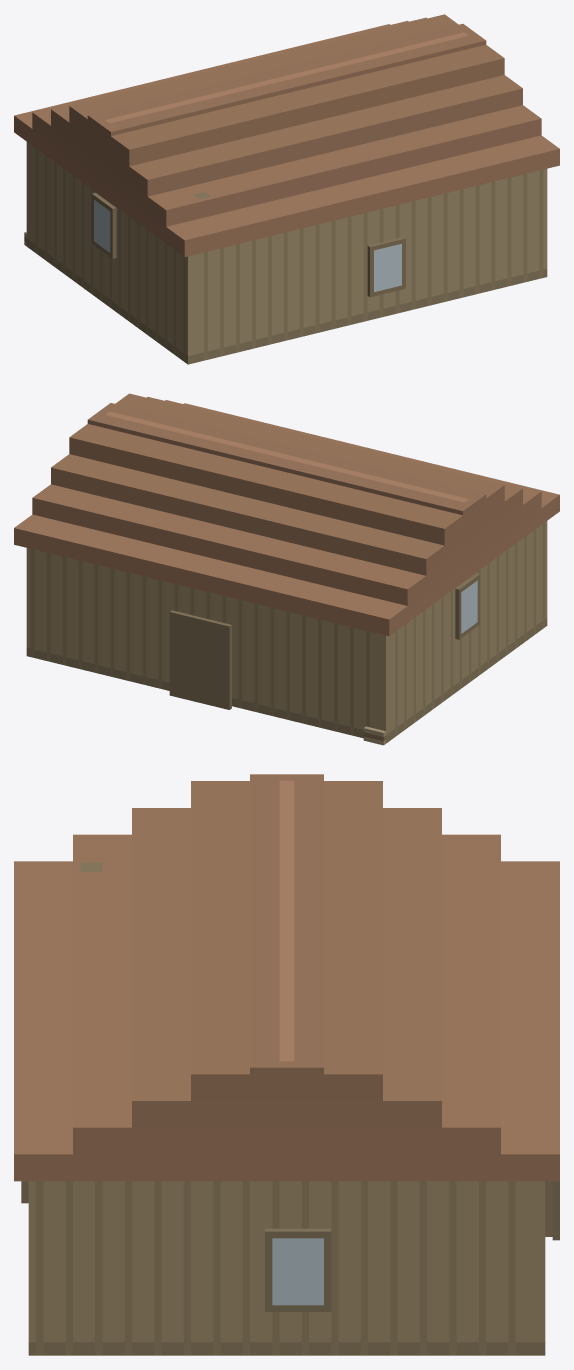
File: peleteria_04.glb
3 renders of one model, top to bottom at view 1: azimuth 30°, elevation 25°; view 2: azimuth 150°, elevation 25°; view 3: azimuth 270°, elevation 25°, orthographic. The views are drawn at different scales.
Visible parts, largest first — view 1: peleteria_04; view 2: peleteria_04; view 3: peleteria_04.
Boxes of the visible parts, <box> form: peleteria_04: <box>14,14,559,364</box>; peleteria_04: <box>14,393,559,745</box>; peleteria_04: <box>14,774,559,1355</box>.
Bounding box in the file's own units: 9.4 × 4.4 × 7.4.
